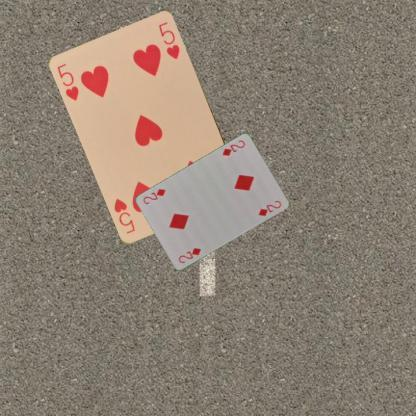2d: (219, 138, 247, 158), (176, 246, 202, 264)
5h: (55, 60, 81, 102)
